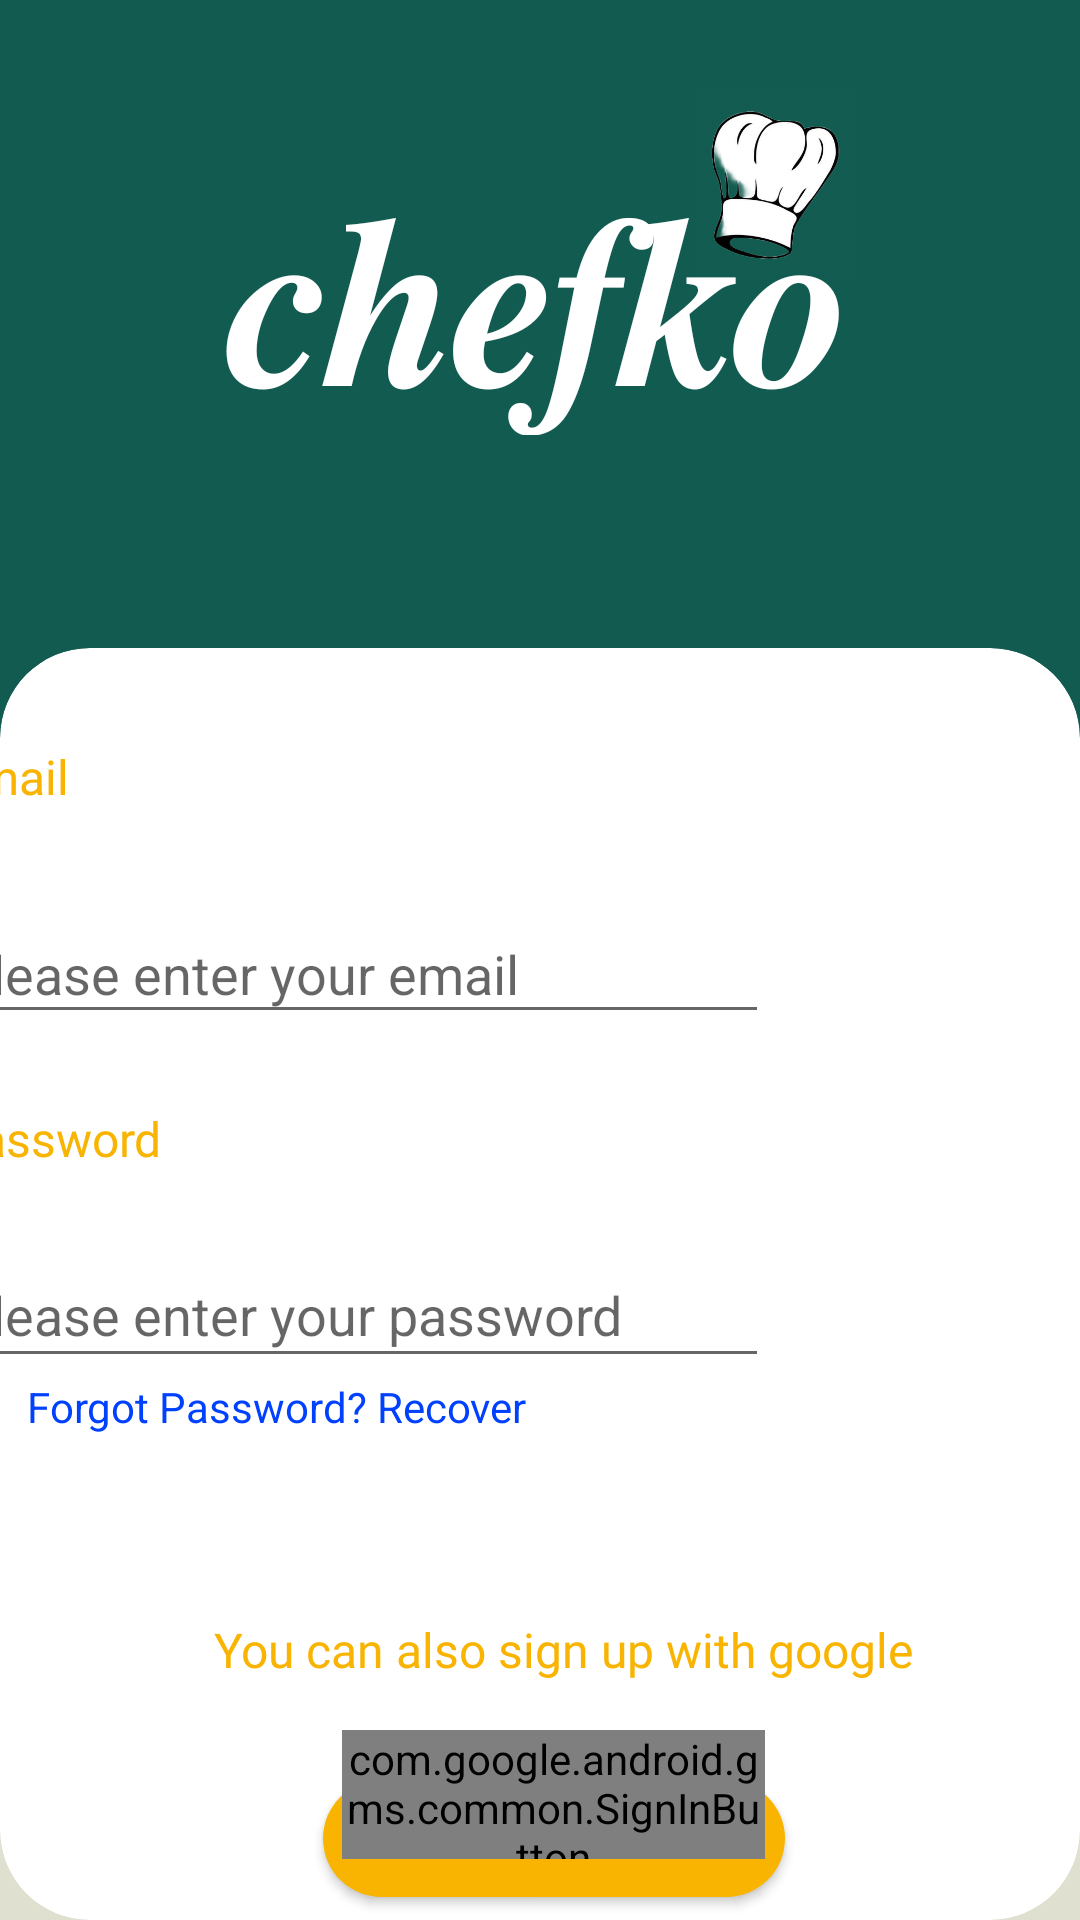

Point at icon controls on the screen. Image size 1080px x 1920px, points as [x,y].
mychef: [775,185]
